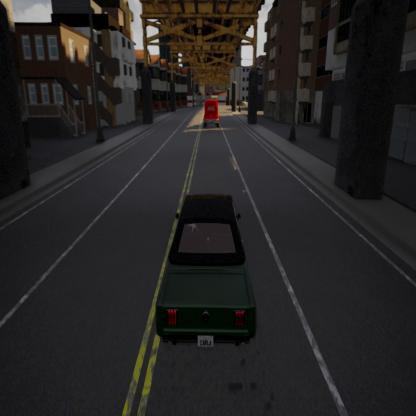Cars: (149, 186, 265, 357), (197, 95, 224, 131)
